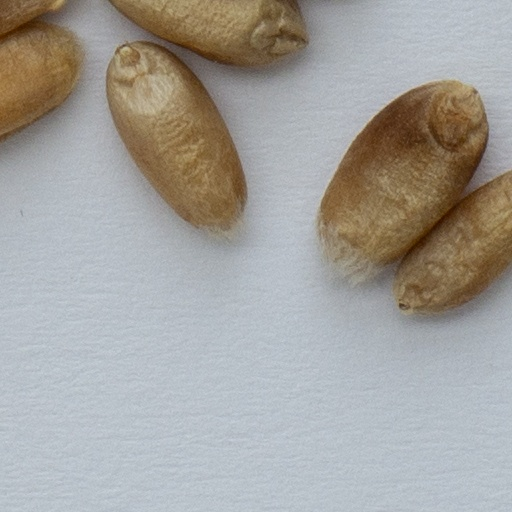Wheat-grain: (314, 79, 489, 291), (102, 40, 246, 236), (394, 169, 511, 318), (105, 0, 309, 62), (0, 16, 87, 150), (0, 0, 77, 35)
